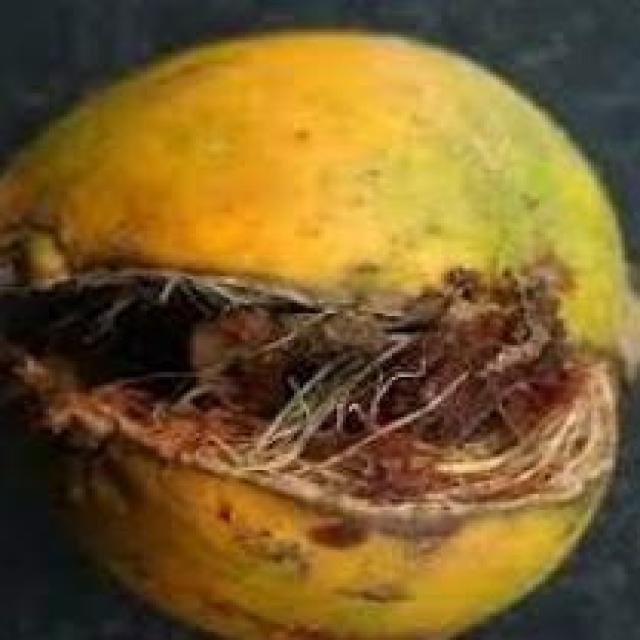damaged: (0, 32, 637, 637)
